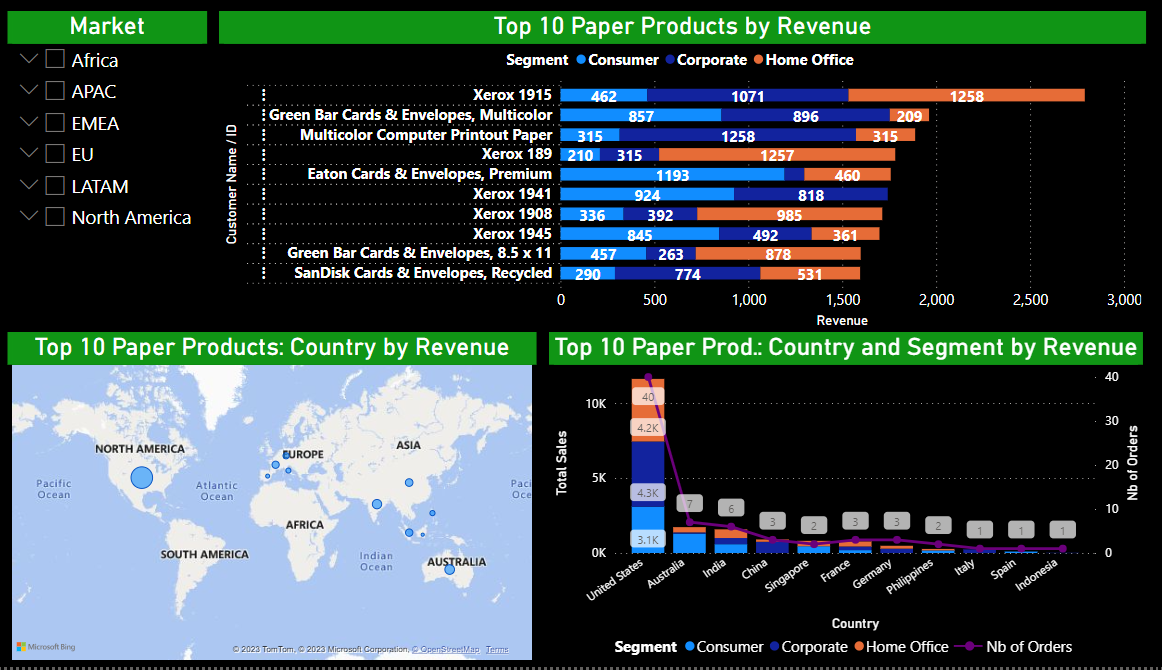

The page's visual inventory and layout, read from the dashboard file:
{"tool":"powerbi","page":{"name":"Top 10 Product by location","canvas":[1280,720],"ordinal":2},"visuals":[{"type":"map","title":"Top 10 Paper Products:  Country by Revenue","fields":{"Size":["Sum(order.Sales)"],"Category":["location.Country"]},"box":[20.8,359.1,570.7,359.1],"z":0},{"type":"barChart","title":"Top 10 Paper Products by Revenue","fields":{"Y":["Sum(order.Sales)"],"Series":["customer_segment.Segment"],"Category":["product.Product_ID","product.Product_Name"]},"box":[249.2,12.9,999.9,346.2],"z":1000},{"type":"lineStackedColumnComboChart","title":"Top 10 Paper Prod.:  Country and Segment by Revenue","fields":{"Y":["Sum(order.Sales)"],"Y2":["CountNonNull(order.Sales)"],"Series":["customer_segment.Segment"],"Category":["location.Country"]},"box":[604.7,359.1,640.6,359.1],"z":2000},{"type":"slicer","title":"Market","fields":{"Values":["market.Market2","market.Market"]},"box":[21,12.9,215.2,346.2],"z":3000}]}

Visuals, with their boxes in screenshot pixels (x1, y1, x2, y2), scaled from the page's 1280x720 canvas onto the 1162x670 screenshot:
"Top 10 Paper Products:  Country by Revenue" map: [x1=19, y1=334, x2=537, y2=668]
"Top 10 Paper Products by Revenue" barChart: [x1=226, y1=12, x2=1134, y2=334]
"Top 10 Paper Prod.:  Country and Segment by Revenue" lineStackedColumnComboChart: [x1=549, y1=334, x2=1130, y2=668]
"Market" slicer: [x1=19, y1=12, x2=214, y2=334]
